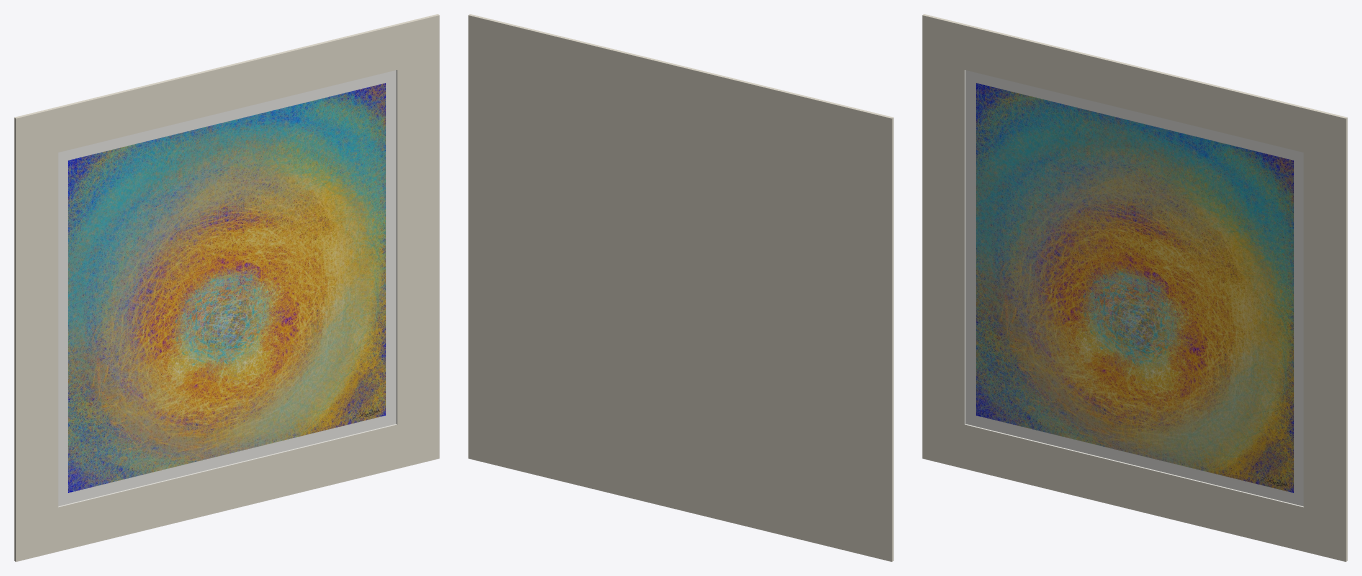
Rendered from va025_moyen_passe-partout.glb.
3 renders of one model, left to right at view 1: azimuth 30°, elevation 25°; view 2: azimuth 150°, elevation 25°; view 3: azimuth 330°, elevation 25°, orthographic.
Visible parts, largest first — view 1: va025_moyen_passe-partout; view 2: va025_moyen_passe-partout; view 3: va025_moyen_passe-partout.
Boxes of the visible parts, x1=… form: va025_moyen_passe-partout: x1=14, y1=14, x2=439, y2=561; va025_moyen_passe-partout: x1=468, y1=14, x2=893, y2=561; va025_moyen_passe-partout: x1=922, y1=14, x2=1347, y2=561.
Bounding box in the file's own units: 0.8 × 0.8 × 0.0055.
4 materials, 1 textured.
